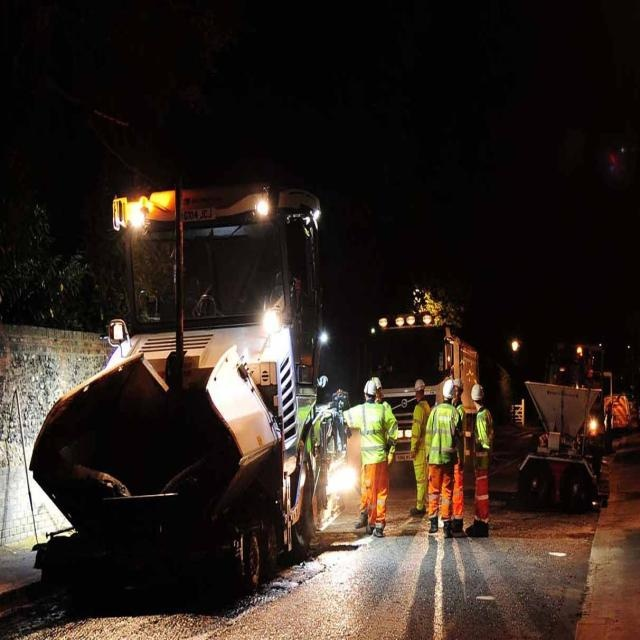Con_Chaleco: (429, 404, 460, 464), (361, 404, 388, 468), (474, 410, 494, 457)
